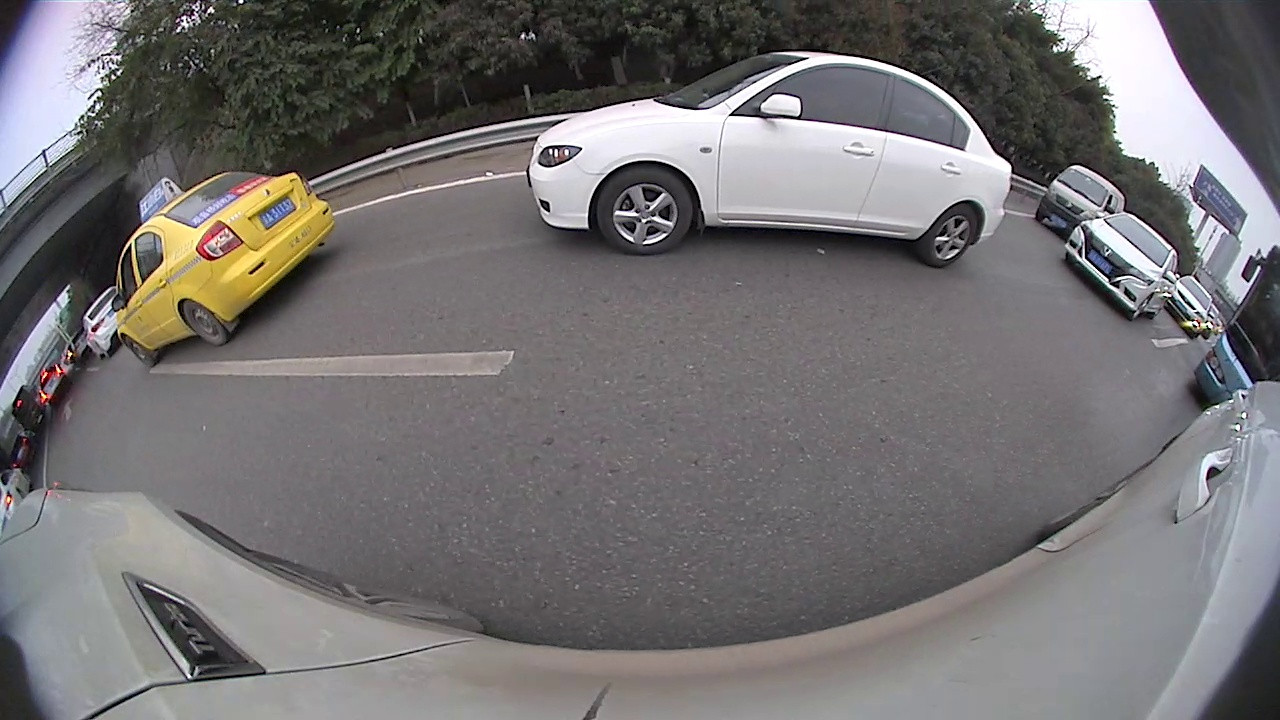bus: (1191, 238, 1279, 413)
car: (519, 49, 1015, 269), (109, 169, 339, 368), (1060, 211, 1182, 320), (1032, 164, 1127, 229), (79, 281, 128, 359), (1162, 271, 1214, 340)
front: (595, 163, 694, 258), (122, 334, 158, 369)
rear: (911, 201, 980, 271), (181, 297, 228, 347)
